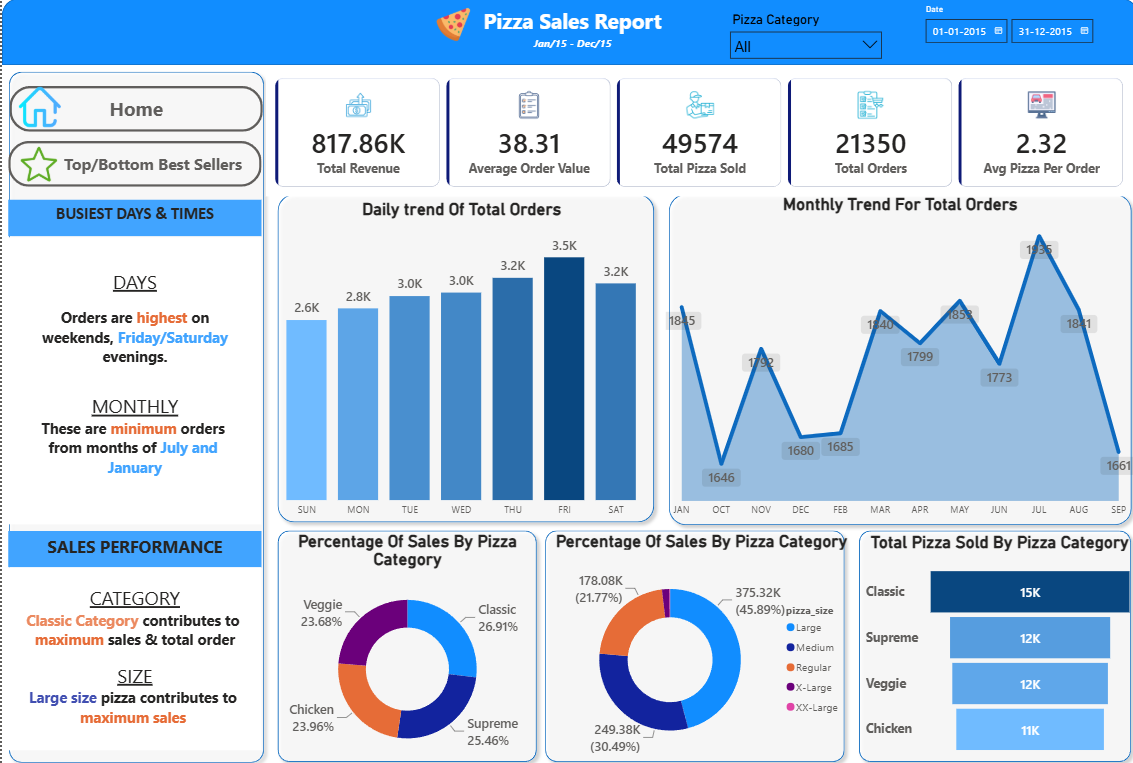

The dashboard page shown, as its layout file describes it:
{"tool":"powerbi","page":{"name":"Home","canvas":[1450,1000],"ordinal":0},"visuals":[{"type":"shape","box":[0,100,343.3,900],"z":0},{"type":"shape","box":[1085,686.7,365,313.3],"z":1000},{"type":"shape","box":[685,686.7,400,313.3],"z":2000},{"type":"shape","box":[343.3,686.7,348.3,313.3],"z":3000},{"type":"shape","box":[841.7,256.7,608.3,440],"z":4000},{"type":"shape","box":[343.3,256.7,498.3,436.7],"z":5000},{"type":"cardVisual","fields":{"Data":["pizza_sales.Total Revenue","pizza_sales.average_order_value","pizza_sales.total_pizza_sold","pizza_sales.total_order","pizza_sales.avg_pizza_per_order"]},"box":[331.7,100,1118.3,173.3],"z":6000},{"type":"shape","box":[0,15.4,1450,84.8],"z":7000},{"type":"textbox","box":[609.3,21.2,252.6,55.9],"z":8000},{"type":"image","box":[541.8,27,67.5,44.3],"z":9000},{"type":"textbox","box":[672.9,59.8,121.5,32.8],"z":10000},{"type":"columnChart","title":"Daily trend Of Total Orders","fields":{"Category":["pizza_sales.short_day_name"],"Y":["pizza_sales.total_order"]},"box":[331.7,273.3,510,413.3],"z":11000},{"type":"stackedAreaChart","title":"Monthly Trend For Total Orders","fields":{"Category":["pizza_sales.short_month_name"],"Y":["pizza_sales.total_order"]},"box":[841.7,266.7,608.3,420],"z":12000},{"type":"donutChart","title":"Percentage Of Sales By Pizza Category","fields":{"Category":["pizza_sales.pizza_category"],"Y":["pizza_sales.Total Revenue"]},"box":[351.7,695,333.3,305],"z":13000},{"type":"donutChart","title":"Percentage Of Sales By Pizza Category","fields":{"Category":["pizza_sales.pizza_size"],"Y":["pizza_sales.Total Revenue"]},"box":[700,695,385,305],"z":14000},{"type":"funnel","title":"Total Pizza Sold By Pizza Category","fields":{"Category":["pizza_sales.pizza_category"],"Y":["pizza_sales.total_pizza_sold"]},"box":[1098.3,696.7,351.7,303.3],"z":15000},{"type":"textbox","box":[8.3,273.3,323.3,46.7],"z":16000},{"type":"textbox","box":[8.3,320,323.3,366.7],"z":17000},{"type":"textbox","box":[8.3,695,323.3,46.7],"z":18000},{"type":"textbox","box":[8.3,741.7,323.3,233.3],"z":19000},{"type":"actionButton","box":[10,128.3,323.3,58.3],"z":20000},{"type":"image","box":[20,128.3,55,53.3],"z":21000},{"type":"actionButton","box":[8.3,198.3,323.3,58.3],"z":22000},{"type":"image","box":[23.3,191.7,46.7,71.7],"z":23000},{"type":"slicer","fields":{"Values":["pizza_sales.pizza_category"]},"box":[919,27.1,213.8,65.4],"z":24000},{"type":"slicer","fields":{"Values":["pizza_sales.order_date"]},"box":[1166.2,17.5,242.5,83],"z":25000}]}

Visuals, with their boxes in screenshot pixels (x1, y1, x2, y2), scaled from the page's 1450x1000 canvas onto the 1133x763 screenshot:
shape: left=0, top=76, right=268, bottom=762
shape: left=848, top=524, right=1132, bottom=762
shape: left=535, top=524, right=848, bottom=762
shape: left=268, top=524, right=540, bottom=762
shape: left=658, top=196, right=1132, bottom=532
shape: left=268, top=196, right=658, bottom=529
cardVisual - pizza_sales.Total Revenue x pizza_sales.average_order_value: left=259, top=76, right=1132, bottom=209
shape: left=0, top=12, right=1132, bottom=76
textbox: left=476, top=16, right=673, bottom=59
image: left=423, top=21, right=476, bottom=54
textbox: left=526, top=46, right=621, bottom=71
"Daily trend Of Total Orders" columnChart: left=259, top=209, right=658, bottom=524
"Monthly Trend For Total Orders" stackedAreaChart: left=658, top=203, right=1132, bottom=524
"Percentage Of Sales By Pizza Category" donutChart: left=275, top=530, right=535, bottom=762
"Percentage Of Sales By Pizza Category" donutChart: left=547, top=530, right=848, bottom=762
"Total Pizza Sold By Pizza Category" funnel: left=858, top=532, right=1132, bottom=762
textbox: left=6, top=209, right=259, bottom=244
textbox: left=6, top=244, right=259, bottom=524
textbox: left=6, top=530, right=259, bottom=566
textbox: left=6, top=566, right=259, bottom=744
actionButton: left=8, top=98, right=260, bottom=142
image: left=16, top=98, right=59, bottom=139
actionButton: left=6, top=151, right=259, bottom=196
image: left=18, top=146, right=55, bottom=201
slicer - pizza_sales.pizza_category: left=718, top=21, right=885, bottom=71
slicer - pizza_sales.order_date: left=911, top=13, right=1101, bottom=77
